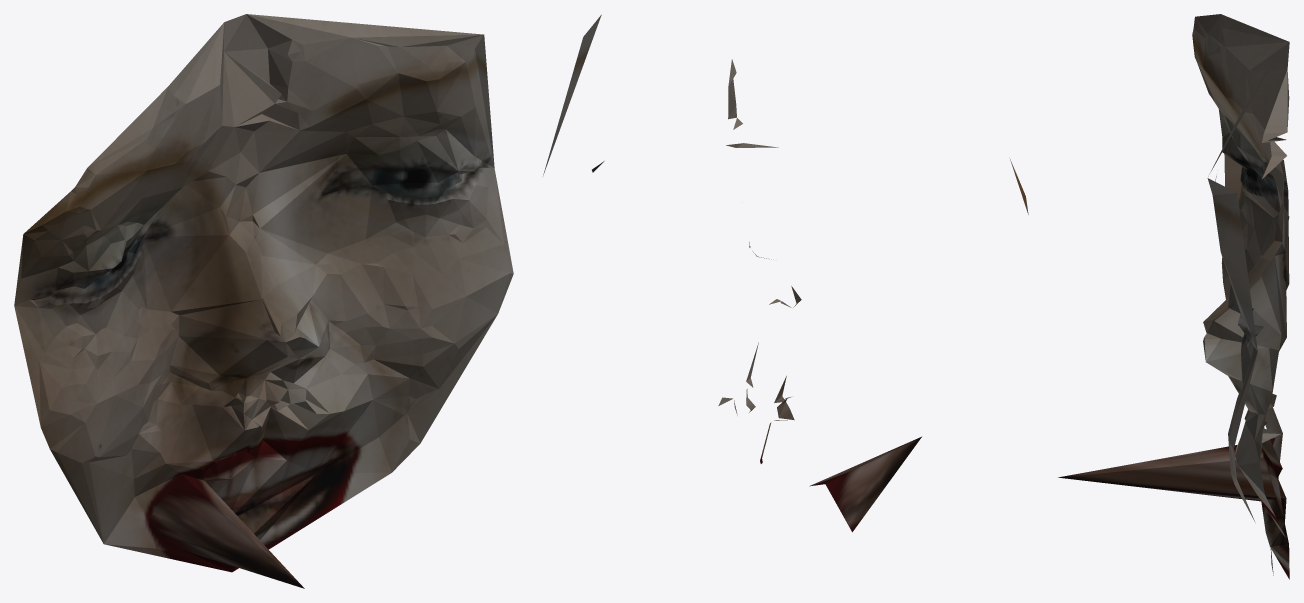
File: original_output.glb
3 views of the same model, side by side, from view 1: azimuth 30°, elevation 25°; view 2: azimuth 150°, elevation 25°; view 3: azimuth 270°, elevation 25° (orthographic). The views are drawn at different scales.
Visible parts, largest first — view 1: world; view 2: world; view 3: world.
Part boxes in pixels (box(x1,y1,x2,y2)): world: box(14, 14, 513, 588); world: box(543, 14, 1028, 532); world: box(1058, 14, 1289, 579).
Size of the model in its own units: 0.1251 by 0.1345 by 0.0524.
Materials: 1 (1 with a texture image).
